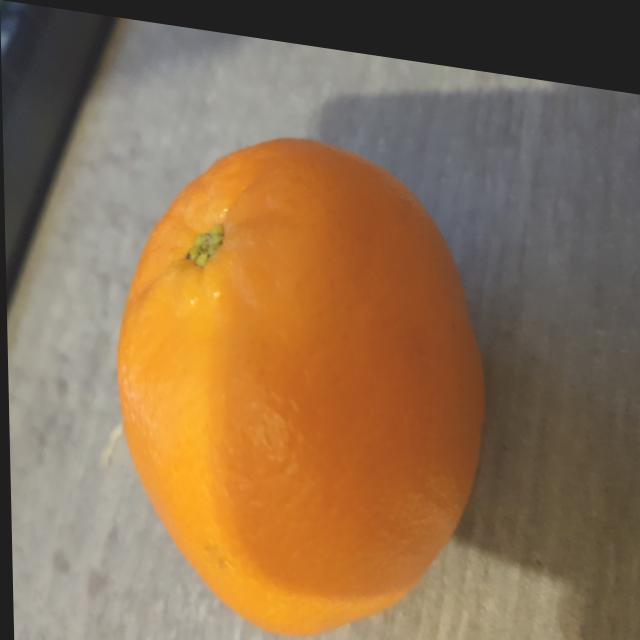Orange: (113, 128, 486, 632)
